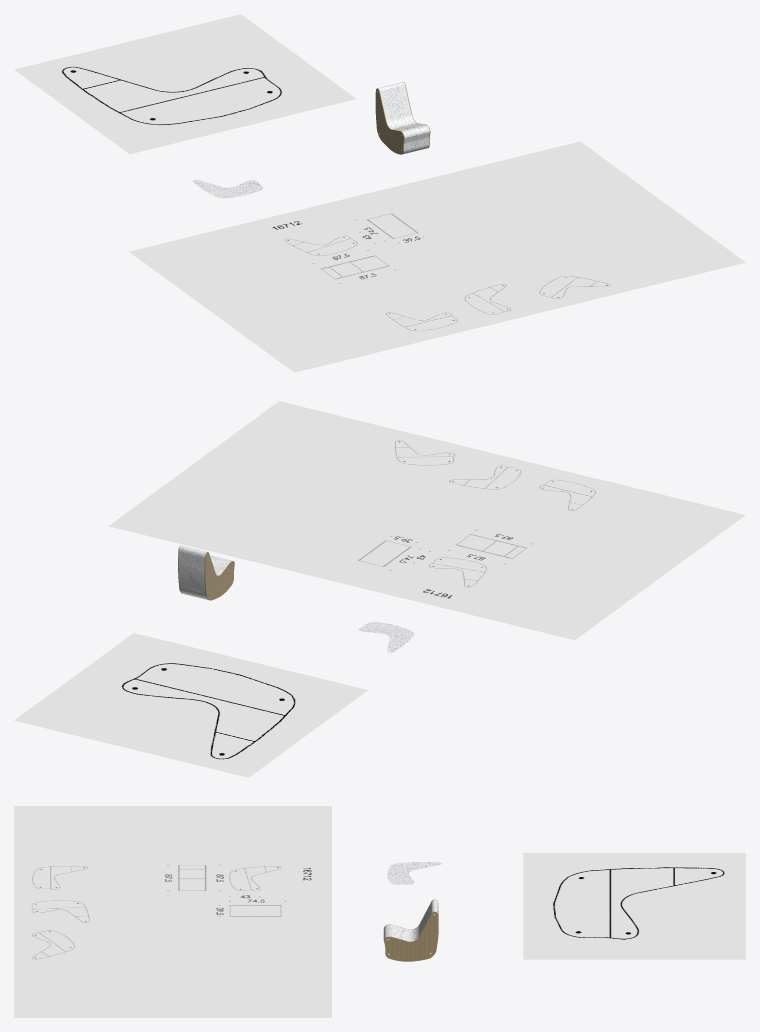
The model's file is rocker.dae.
3 renders of one model, top to bottom at view 1: azimuth 30°, elevation 25°; view 2: azimuth 150°, elevation 25°; view 3: azimuth 270°, elevation 25°, orthographic. The views are drawn at different scales.
Parts seen in each view (by area): view 1: image_1, image_0, Component_6, Component_7, Component_5; view 2: image_1, image_0, Component_6, Component_7, Component_5; view 3: image_1, image_0, Component_7, Component_6, Component_5.
Part boxes in pixels (<box>): image_1: <box>129,141,745,372</box>; image_0: <box>14,14,356,154</box>; Component_6: <box>378,82,429,154</box>; Component_7: <box>375,88,404,154</box>; Component_5: <box>192,179,263,198</box>; image_1: <box>108,401,745,639</box>; image_0: <box>14,633,367,777</box>; Component_6: <box>178,545,232,599</box>; Component_7: <box>204,552,234,600</box>; Component_5: <box>358,622,414,652</box>; image_1: <box>14,806,331,1017</box>; image_0: <box>523,853,745,959</box>; Component_7: <box>384,911,438,961</box>; Component_6: <box>383,900,438,941</box>; Component_5: <box>387,862,441,884</box>.
Size of the model in its own units: 276 by 403 by 30.28.
